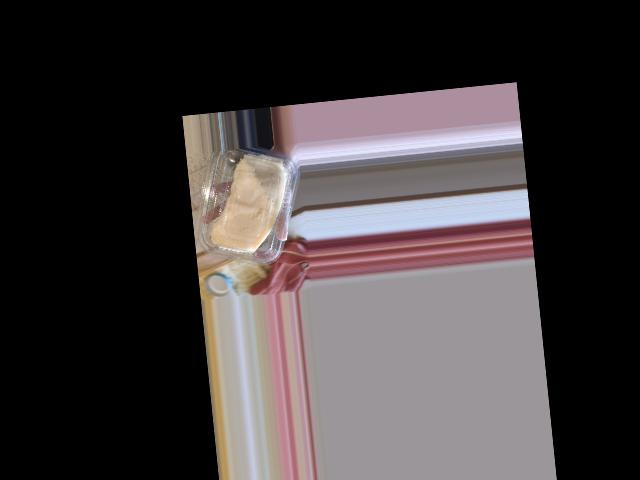cheese: (192, 142, 301, 272)
